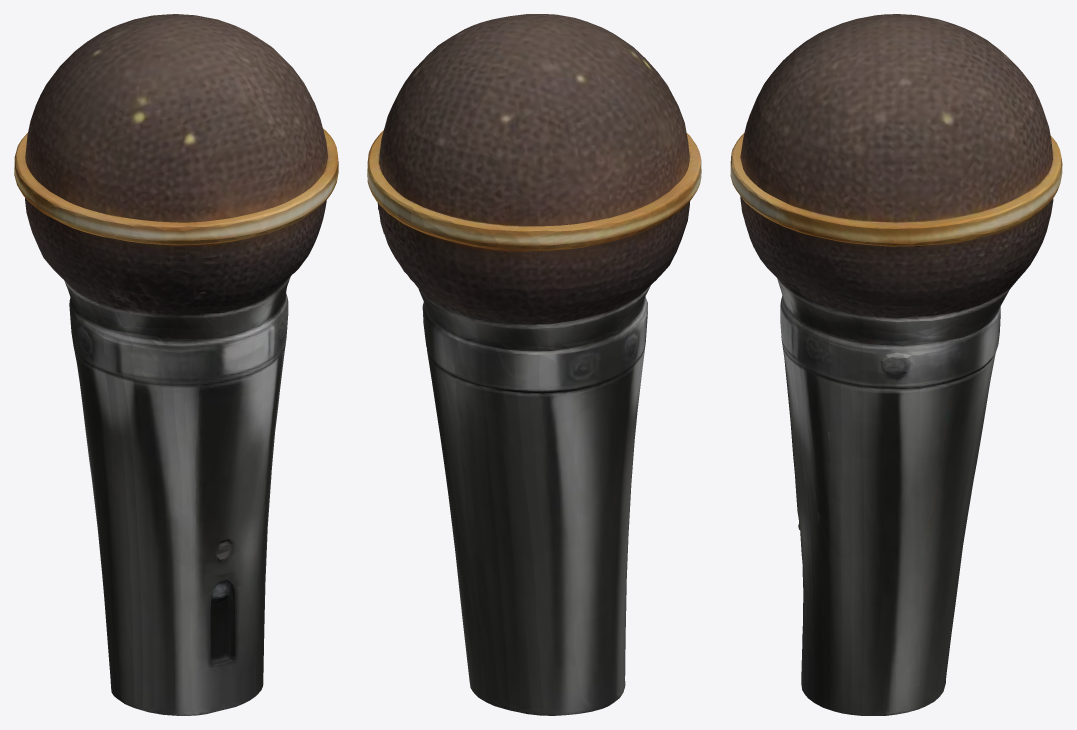
Rendered from p_mic.glb.
The picture shows the model from 3 angles, left to right: view 1: azimuth 30°, elevation 25°; view 2: azimuth 150°, elevation 25°; view 3: azimuth 270°, elevation 25°; orthographic projection. The views are drawn at different scales.
Visible parts, largest first — view 1: geometry_0; view 2: geometry_0; view 3: geometry_0.
Part boxes in pixels (left/top/right/bottom): geometry_0: left=14, top=14, right=338, bottom=715; geometry_0: left=367, top=14, right=701, bottom=715; geometry_0: left=730, top=14, right=1062, bottom=715.
Size of the model in its own units: 0.4576 by 1 by 0.4592.
Materials: 1 (1 with a texture image).
